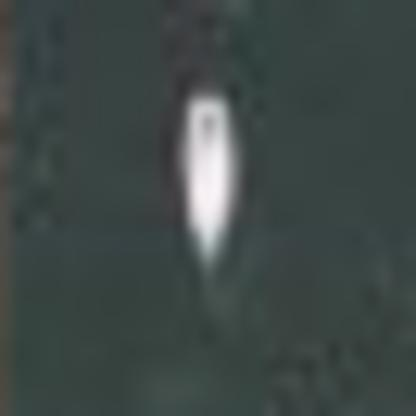ship: (156, 81, 262, 288)
